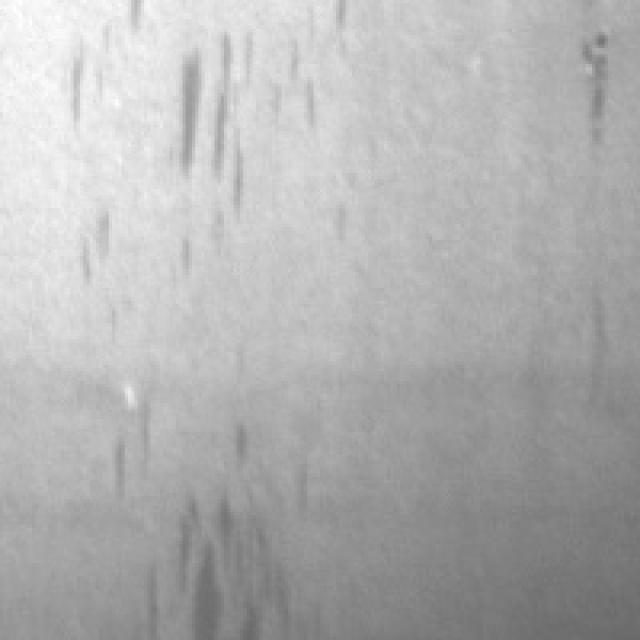inclusion: (138, 464, 320, 634), (154, 16, 272, 224), (557, 13, 621, 163)
